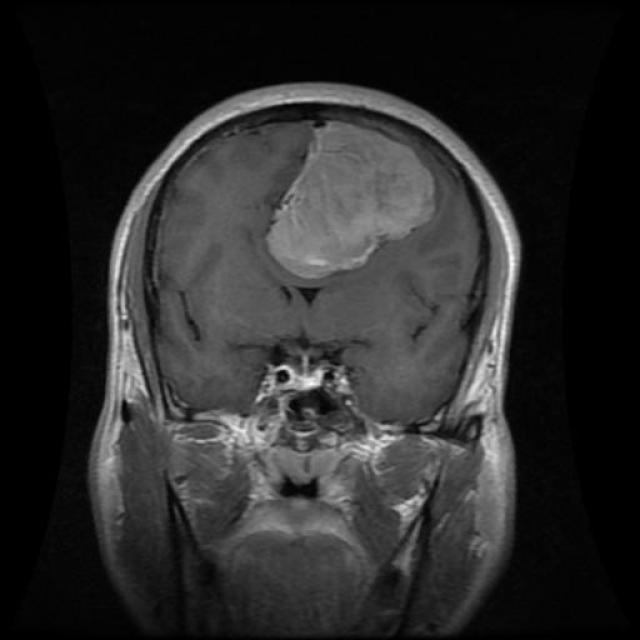meningioma: (265, 125, 436, 280)
